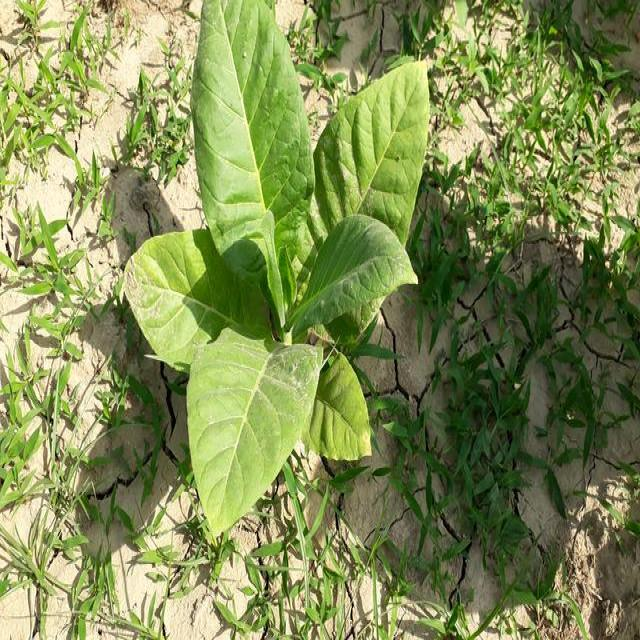crop: (121, 0, 432, 540)
